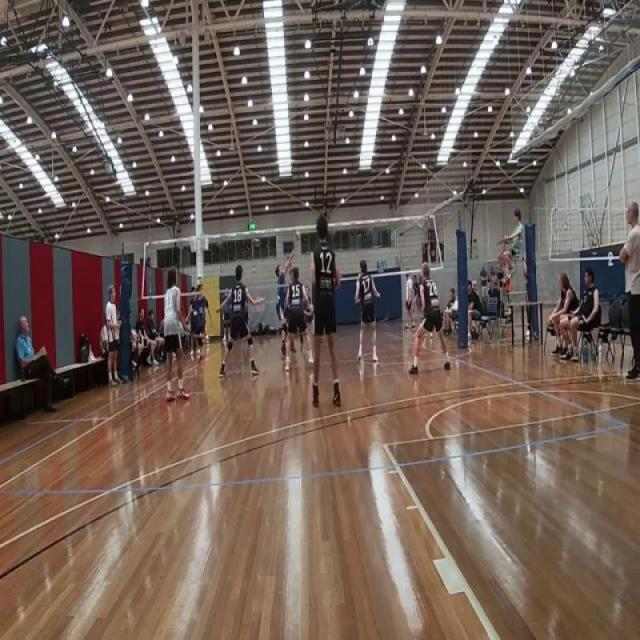volleyball: (295, 231, 301, 242)
